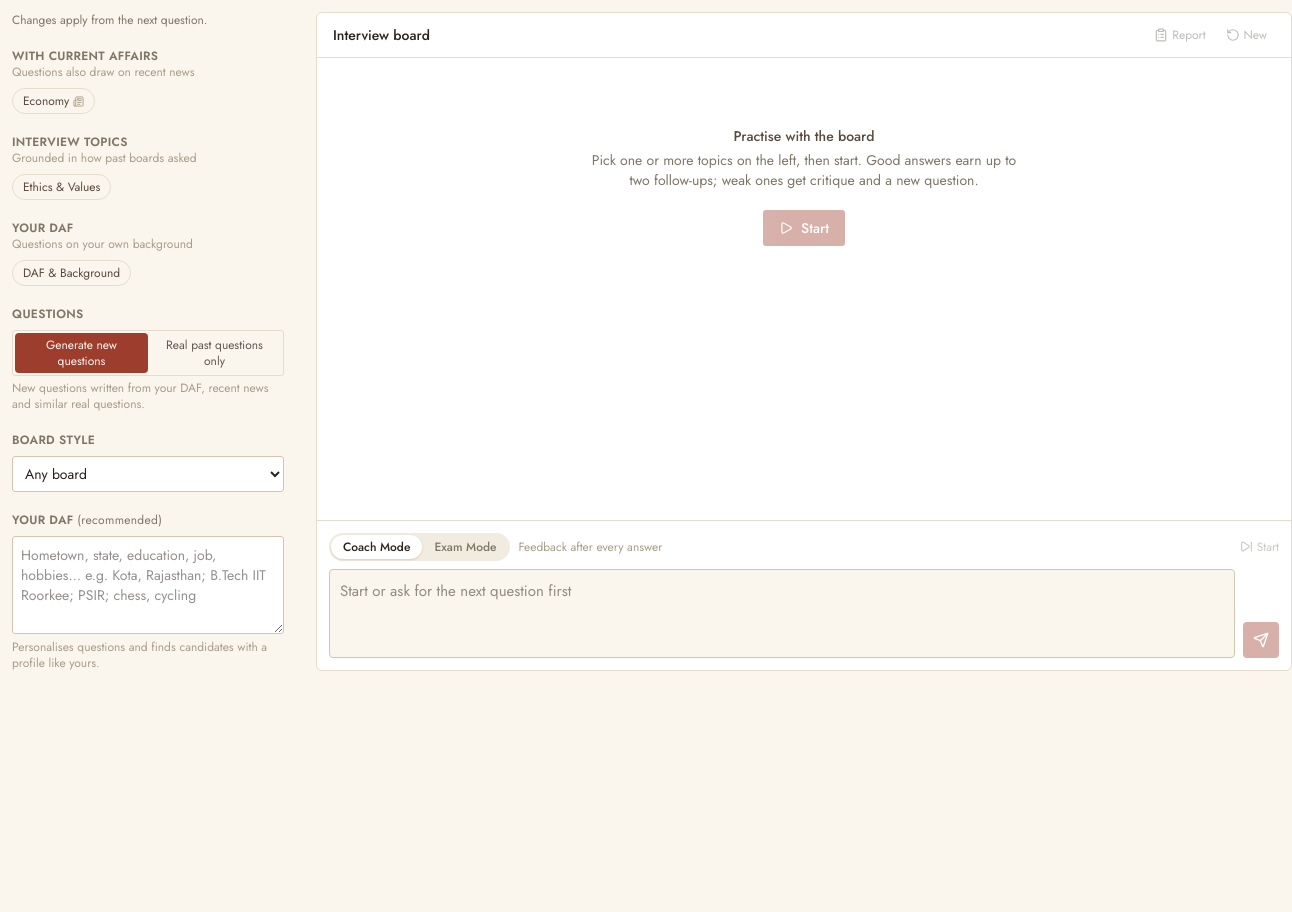
Test: exam mode hides feedback, and errors are shown
Click the radio button labelled "Exam Mode".
click(465, 546)  # box [422,534,508,558]
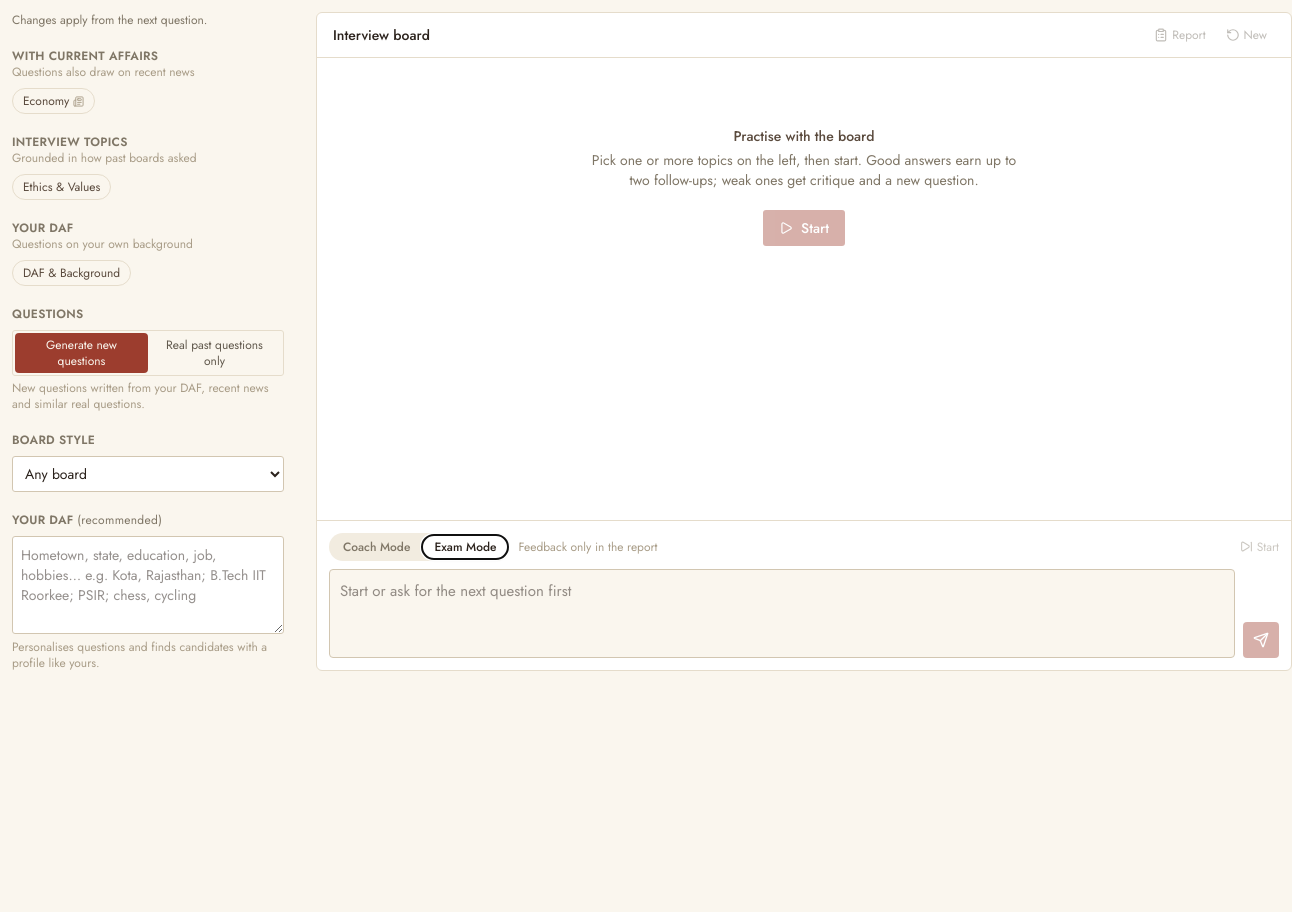
Expected: the text "Feedback only in the report" is shown, [518,538,657,554]
Click the button "Economy".
click(54, 101)  # box [12,88,95,114]
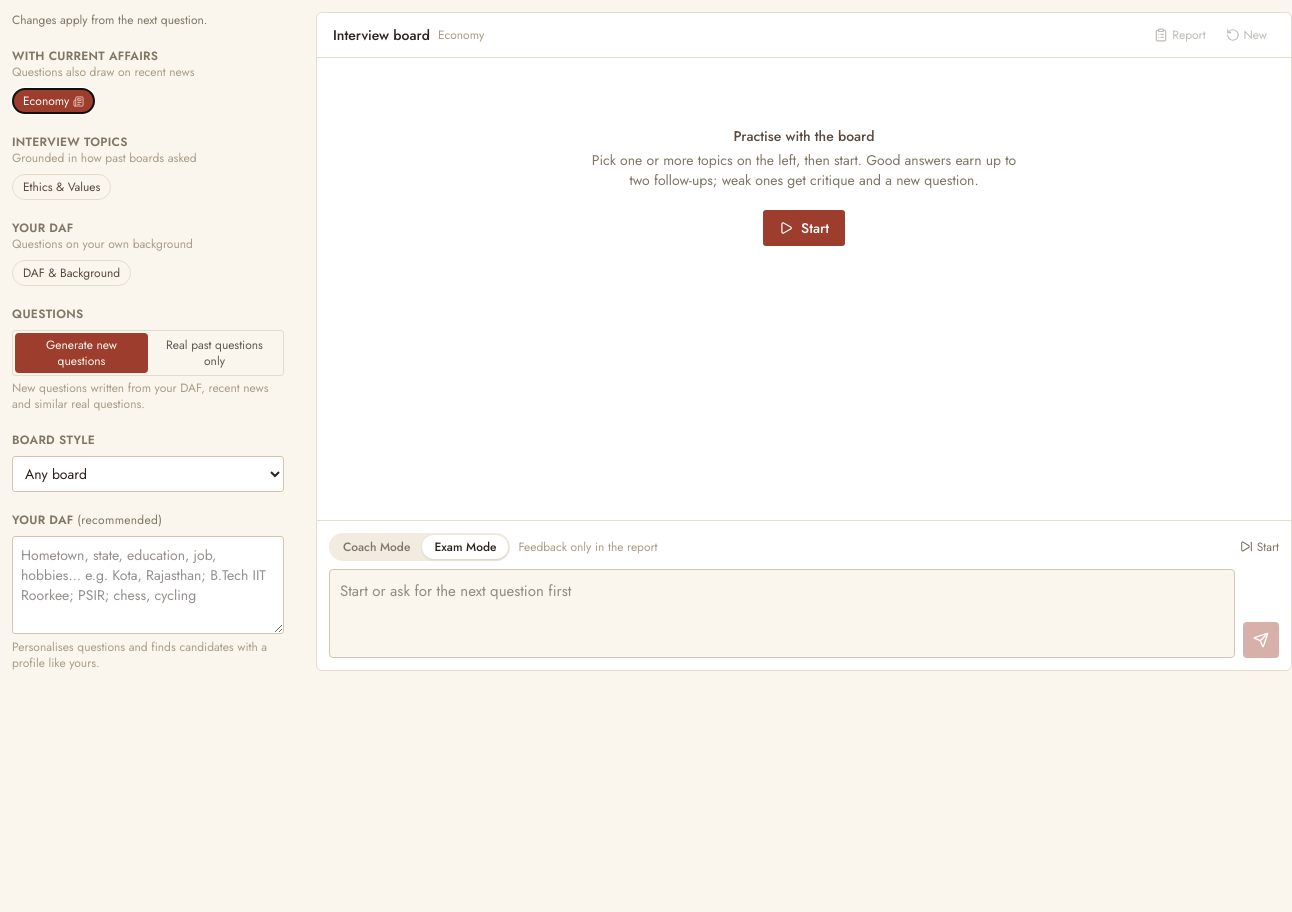
Click the button "Start" below "Practise with the board".
click(804, 228)  # box [763,210,845,246]
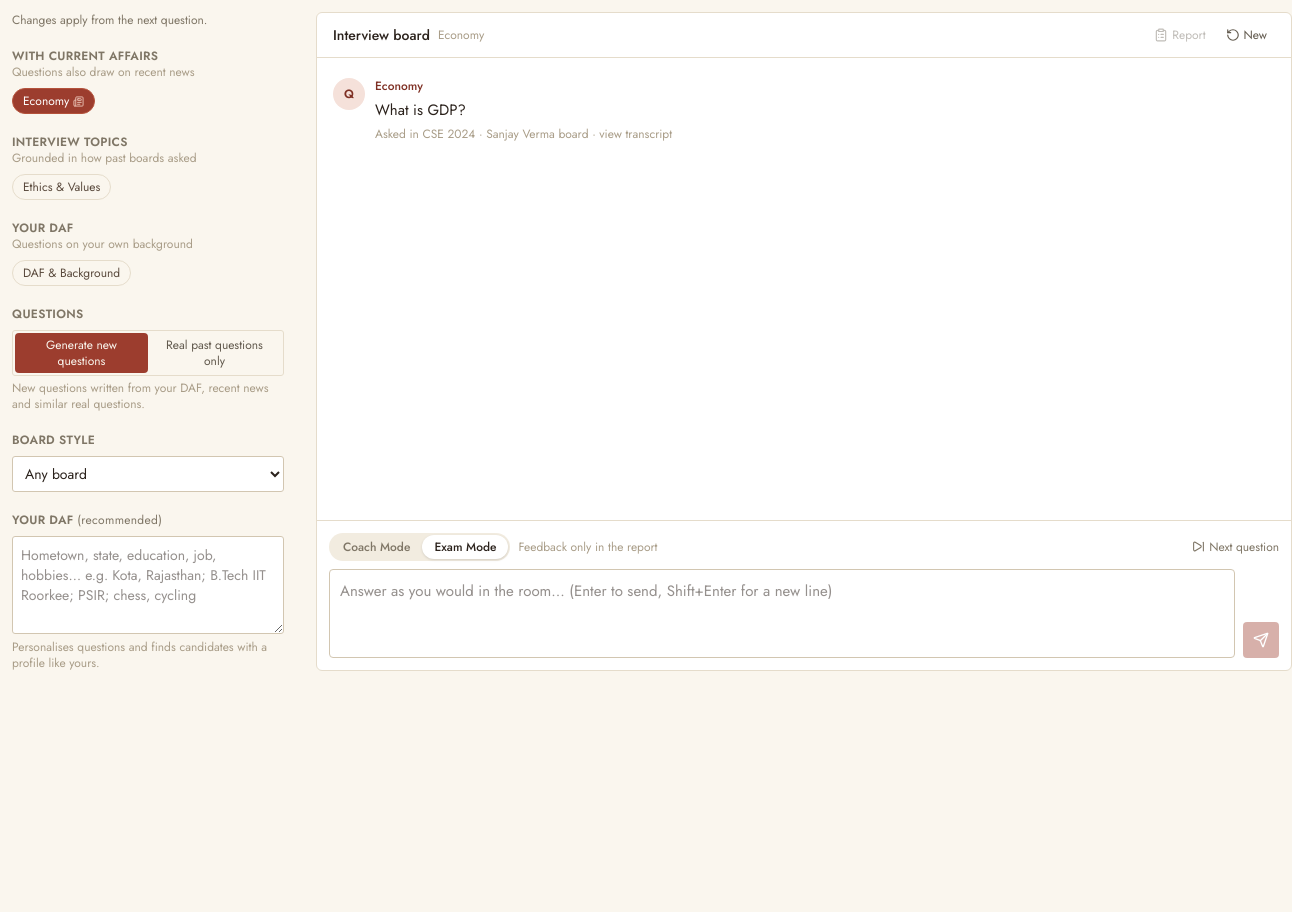
Expected: the text "What is GDP?" is shown, [375,99,466,121]
Type "A" into the text box with placeholder "Answer as you would".
click(782, 613); type("A")  # box [329,568,1235,658]
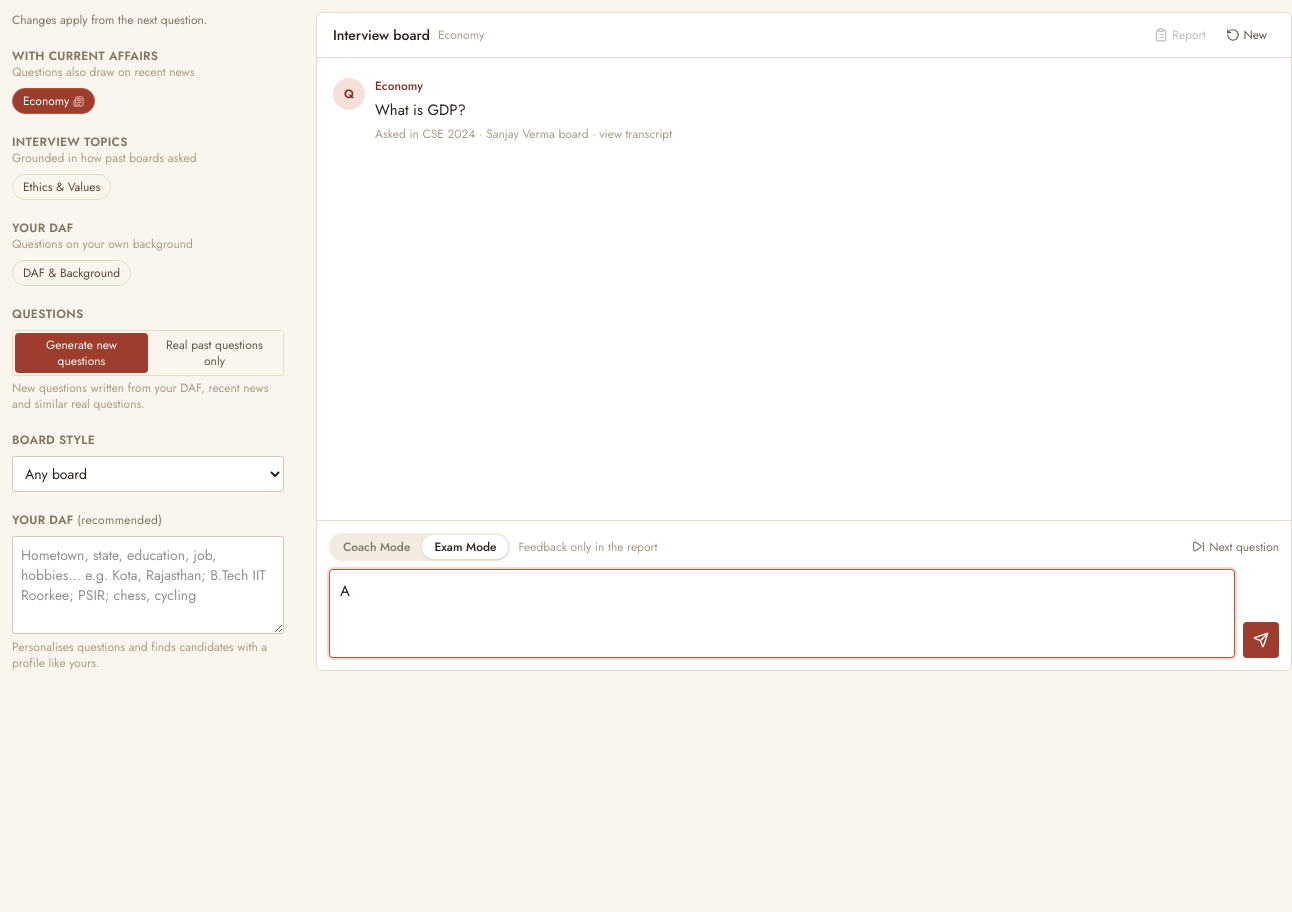
Click the button named "Send answer".
click(1261, 640)  # box [1243,622,1279,658]
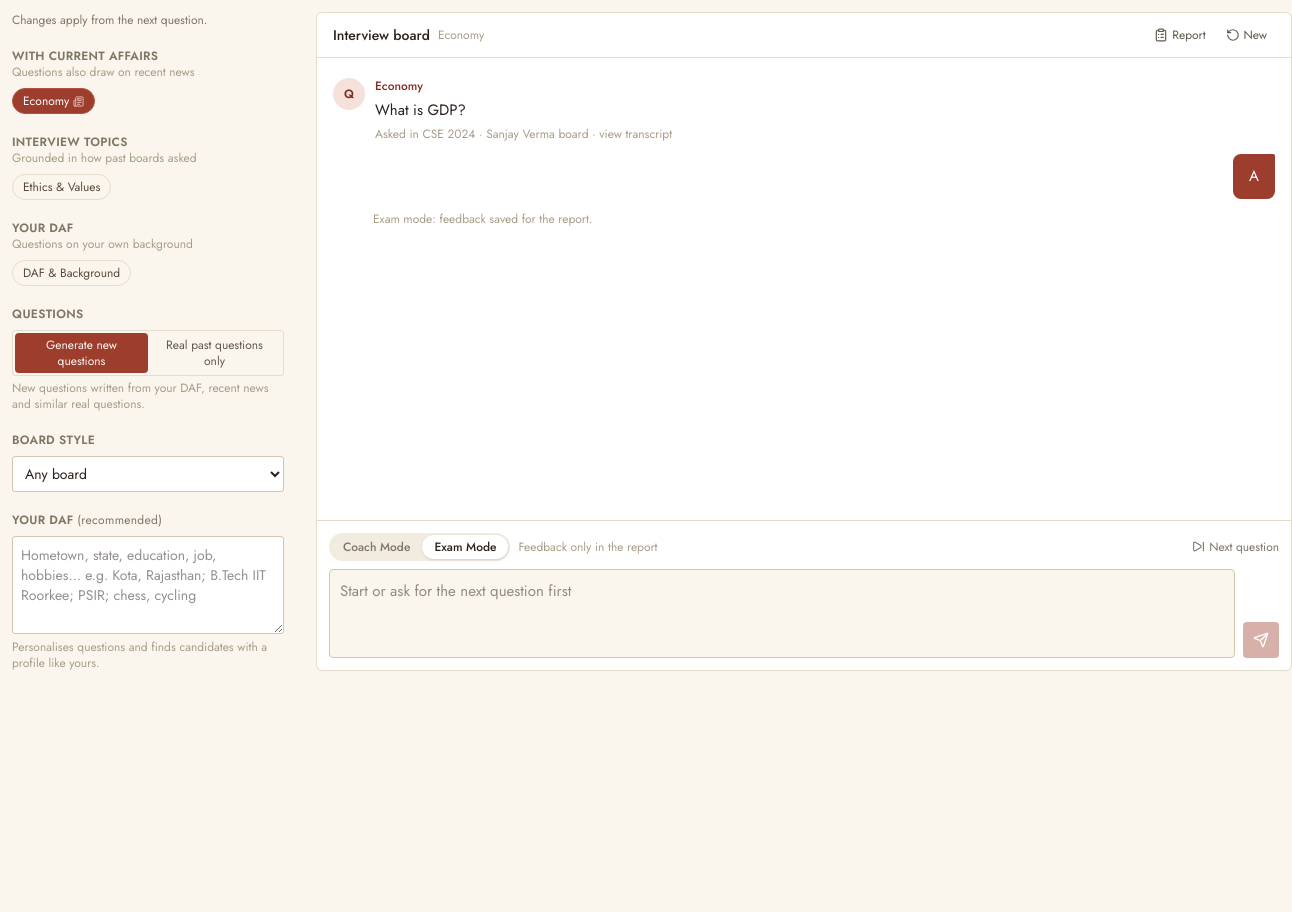
Expected: the text "Exam mode: feedback saved for the report." is shown, [373,210,592,228]
Click the button "Next question".
click(1236, 546)  # box [1192,538,1279,554]
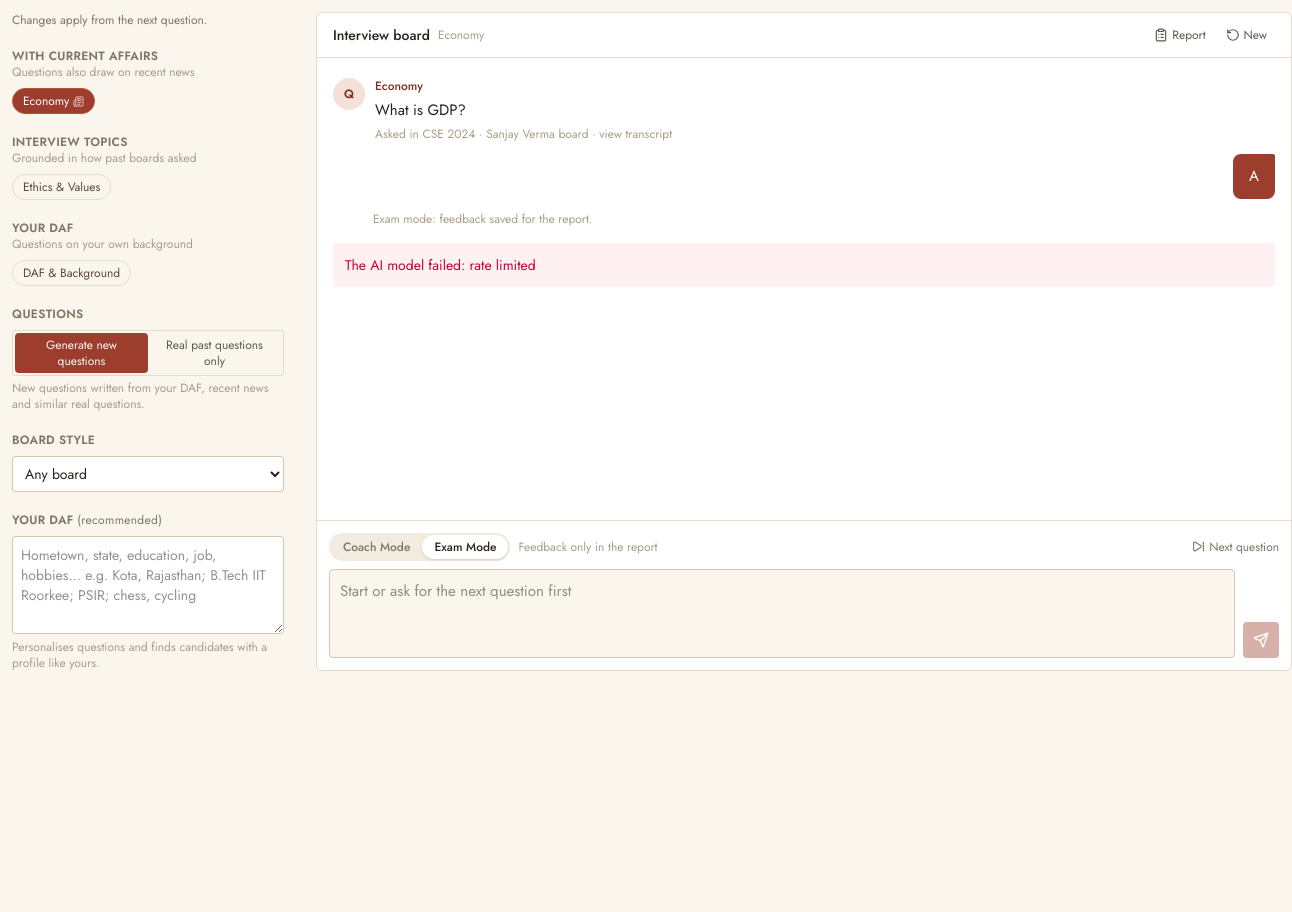
Expected: the text "The AI model failed: rate limited" is shown, [333,243,1275,287]
